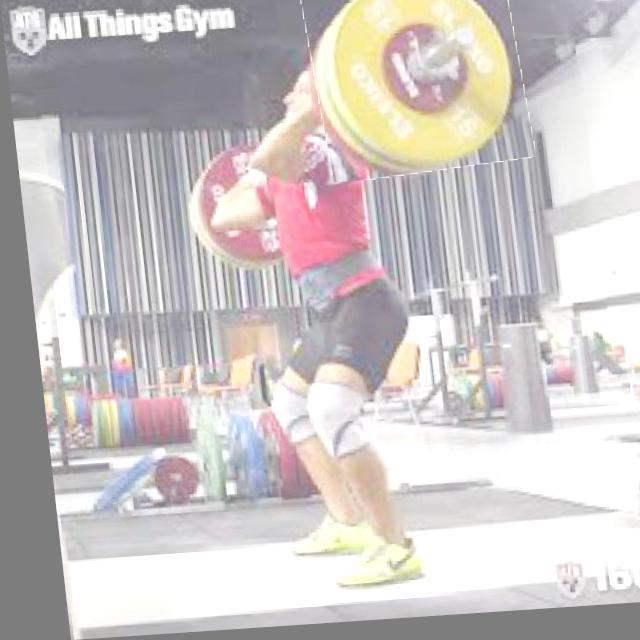barbell: (302, 1, 530, 185)
